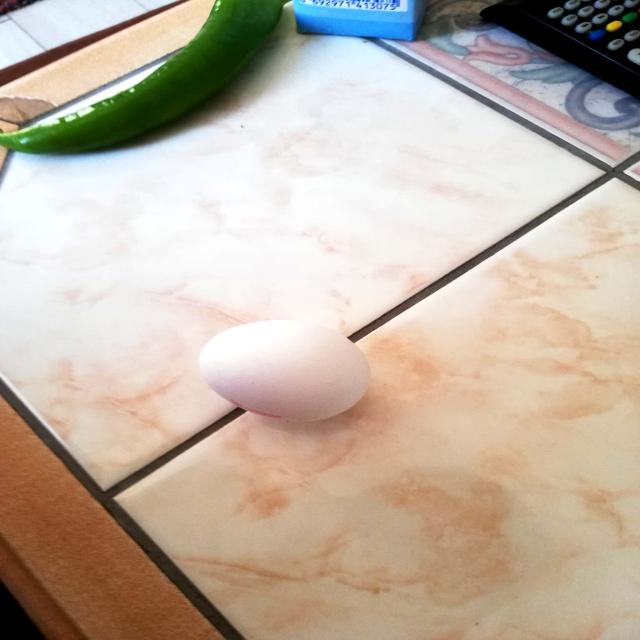egg: (192, 318, 379, 424)
green pepper: (0, 1, 289, 155)
